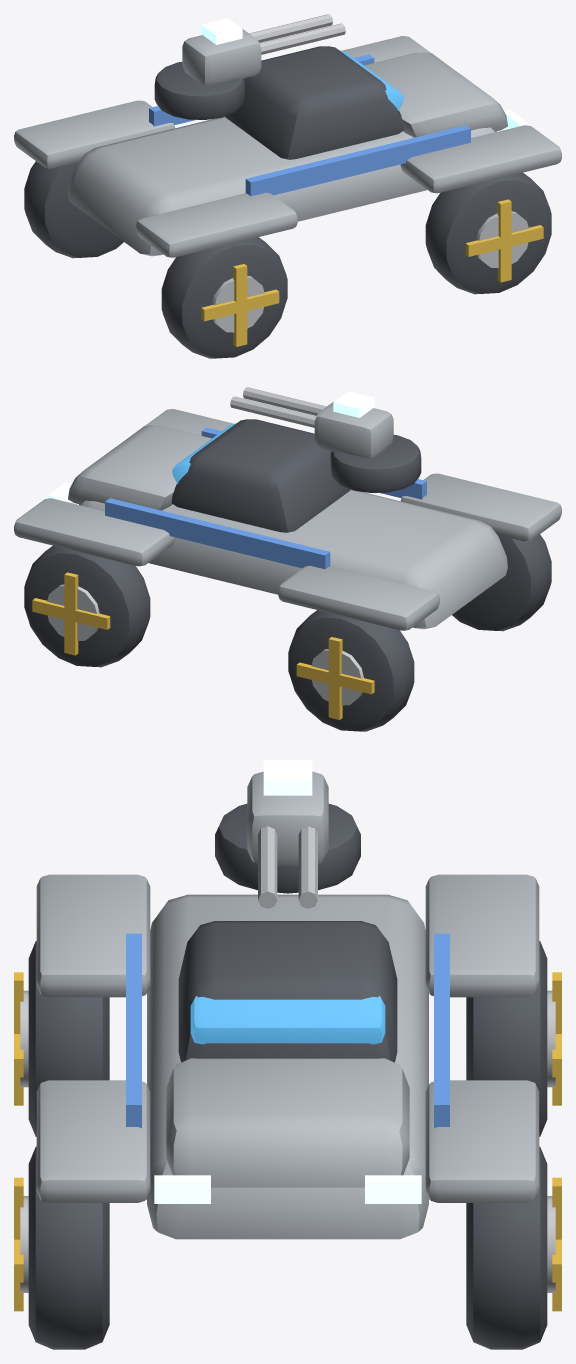
File: hum_scout.glb
3 views of the same model, one above another, from view 1: azimuth 30°, elevation 25°; view 2: azimuth 150°, elevation 25°; view 3: azimuth 270°, elevation 25° (orthographic). The views are drawn at different scales.
Parts seen in each view (by area): view 1: hum_scout, wheel_r0_m, wheel_r1_m, turret_m, wheel_l1_m; view 2: hum_scout, wheel_l0_m, wheel_l1_m, turret_m, wheel_r1_m; view 3: hum_scout, turret_m, wheel_l0_m, wheel_r0_m, wheel_l1_m, wheel_r1_m.
Boxes of the visible parts, bbox=[...] form: hum_scout: bbox=[14, 36, 561, 257]; wheel_r0_m: bbox=[425, 172, 551, 294]; wheel_r1_m: bbox=[161, 237, 287, 358]; turret_m: bbox=[154, 14, 345, 119]; wheel_l1_m: bbox=[24, 161, 123, 258]; hum_scout: bbox=[14, 409, 561, 630]; wheel_l0_m: bbox=[24, 545, 150, 667]; wheel_l1_m: bbox=[288, 610, 414, 731]; turret_m: bbox=[230, 387, 421, 492]; wheel_r1_m: bbox=[452, 534, 551, 631]; hum_scout: bbox=[36, 874, 539, 1239]; turret_m: bbox=[215, 760, 360, 908]; wheel_l0_m: bbox=[466, 1146, 561, 1349]; wheel_r0_m: bbox=[14, 1146, 109, 1349]; wheel_l1_m: bbox=[466, 941, 561, 1136]; wheel_r1_m: bbox=[14, 941, 109, 1136].
Bounding box in the file's own units: 0.9 × 0.565 × 0.676.
